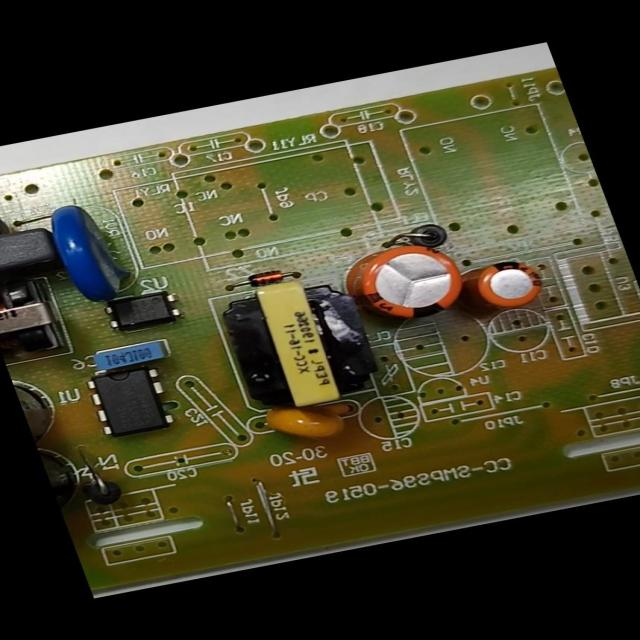Cap1: (332, 227, 484, 339)
Cap2: (450, 250, 558, 324)
Cap3: (7, 364, 74, 454)
Cap4: (34, 431, 113, 522)
MOSFET: (75, 357, 188, 449)
Mov: (33, 190, 160, 315)
Resistor: (0, 181, 23, 246)
Transformer: (208, 266, 392, 419), (0, 268, 77, 367)
